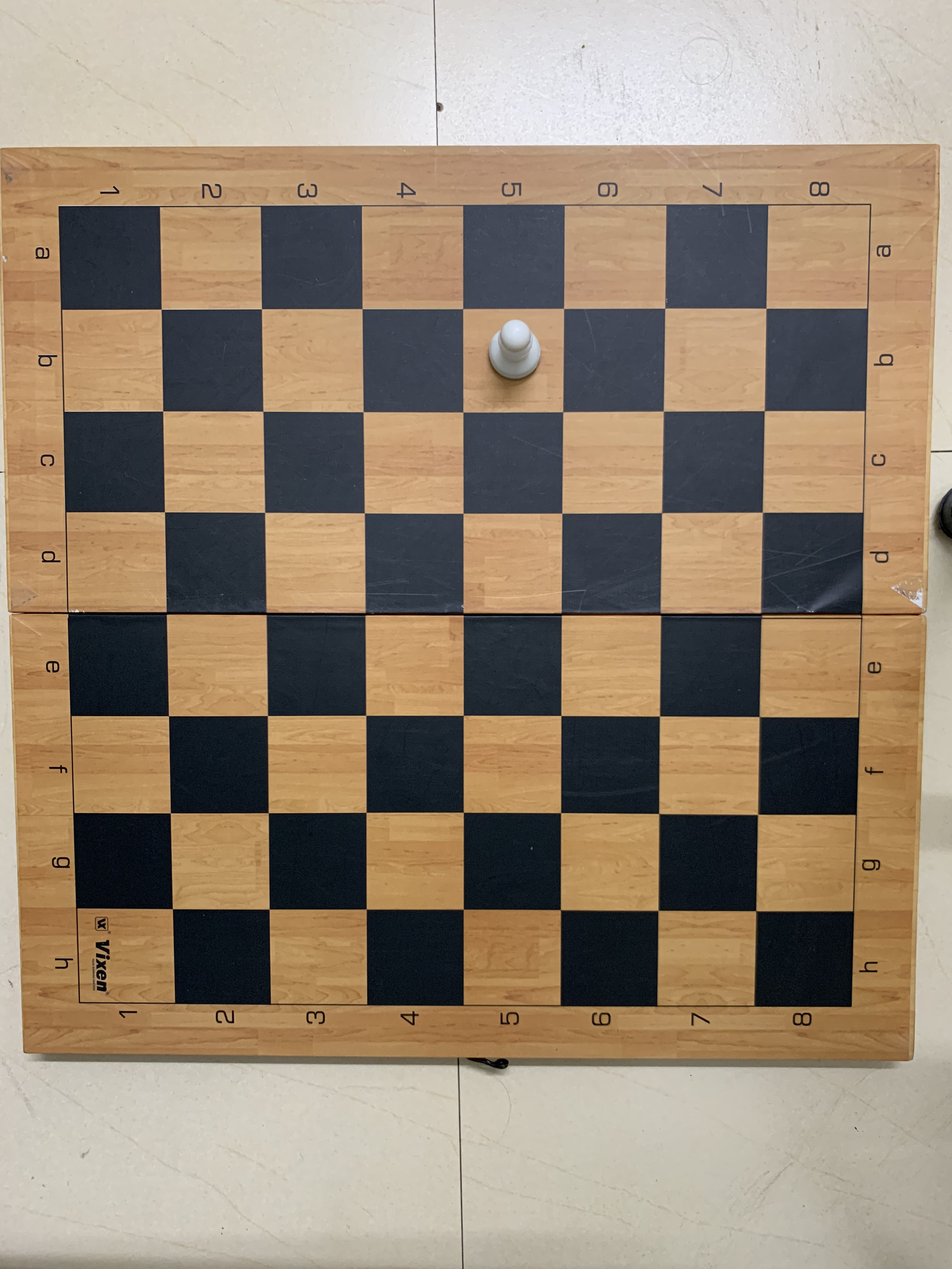white_pawn: (466, 305, 566, 414)
